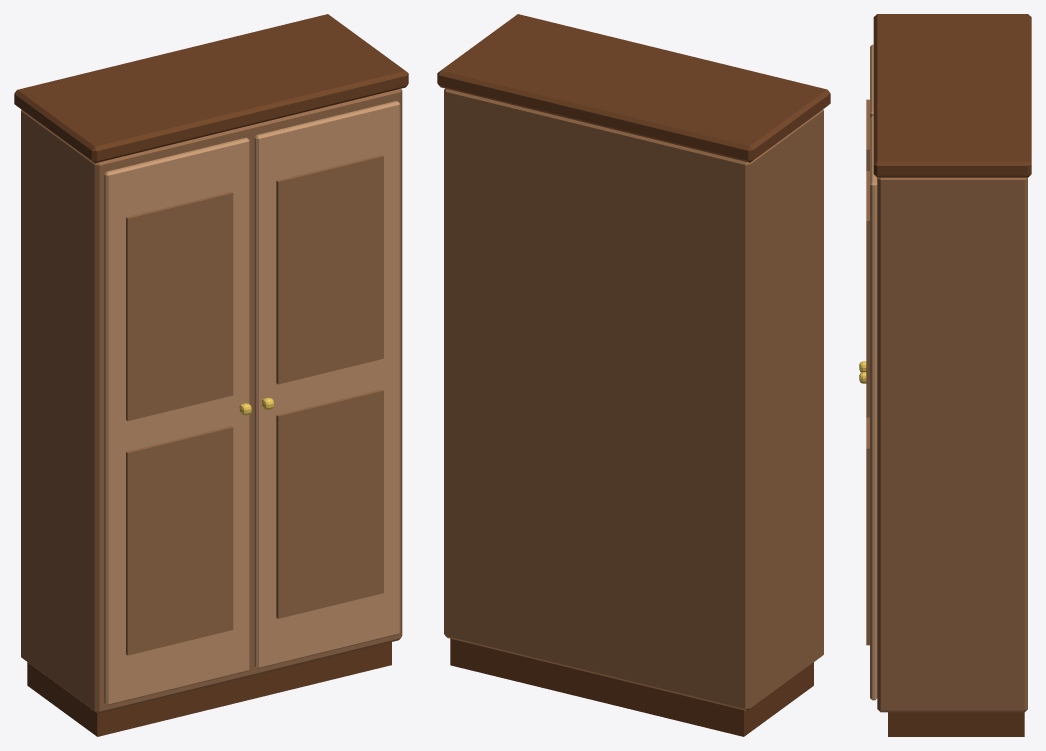
The model's file is wardrobe.glb.
The picture shows the model from 3 angles, left to right: view 1: azimuth 30°, elevation 25°; view 2: azimuth 150°, elevation 25°; view 3: azimuth 270°, elevation 25°; orthographic projection. The views are drawn at different scales.
Visible parts, largest first — view 1: wardrobe; view 2: wardrobe; view 3: wardrobe.
Part boxes in pixels (x1,y1,x2,y2): wardrobe: (14,14,408,736); wardrobe: (437,14,830,736); wardrobe: (859,14,1031,736).
Bounding box in the file's own units: 0.9901 × 1.78 × 0.4801.
Materials: 1 (1 with a texture image).
